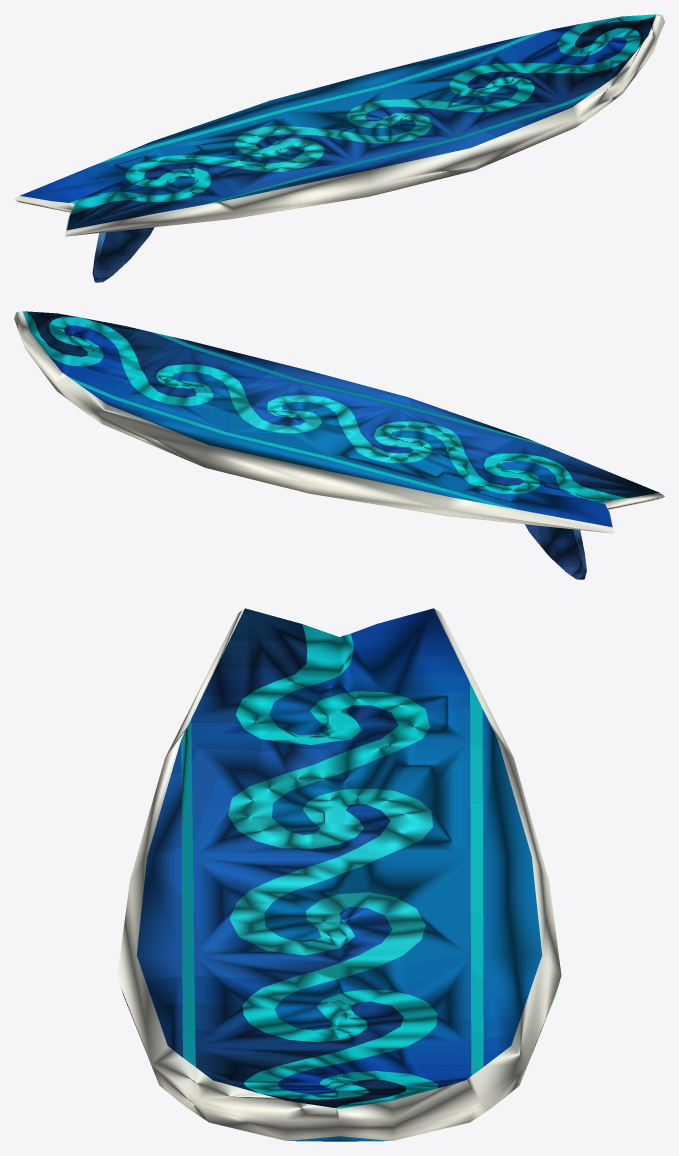
File: WaveBreaker.glb
3 views of the same model, one above another, from view 1: azimuth 30°, elevation 25°; view 2: azimuth 150°, elevation 25°; view 3: azimuth 270°, elevation 25° (orthographic). The views are drawn at different scales.
Visible parts, largest first — view 1: WaveBreaker; view 2: WaveBreaker; view 3: WaveBreaker.
Boxes of the visible parts, box(x1,y1,x2,y2) form: WaveBreaker: box(14, 14, 664, 282); WaveBreaker: box(14, 311, 664, 579); WaveBreaker: box(117, 608, 561, 1141).
Bounding box in the file's own units: 14.09 × 2.86 × 4.33.
Materials: 1 (1 with a texture image).
